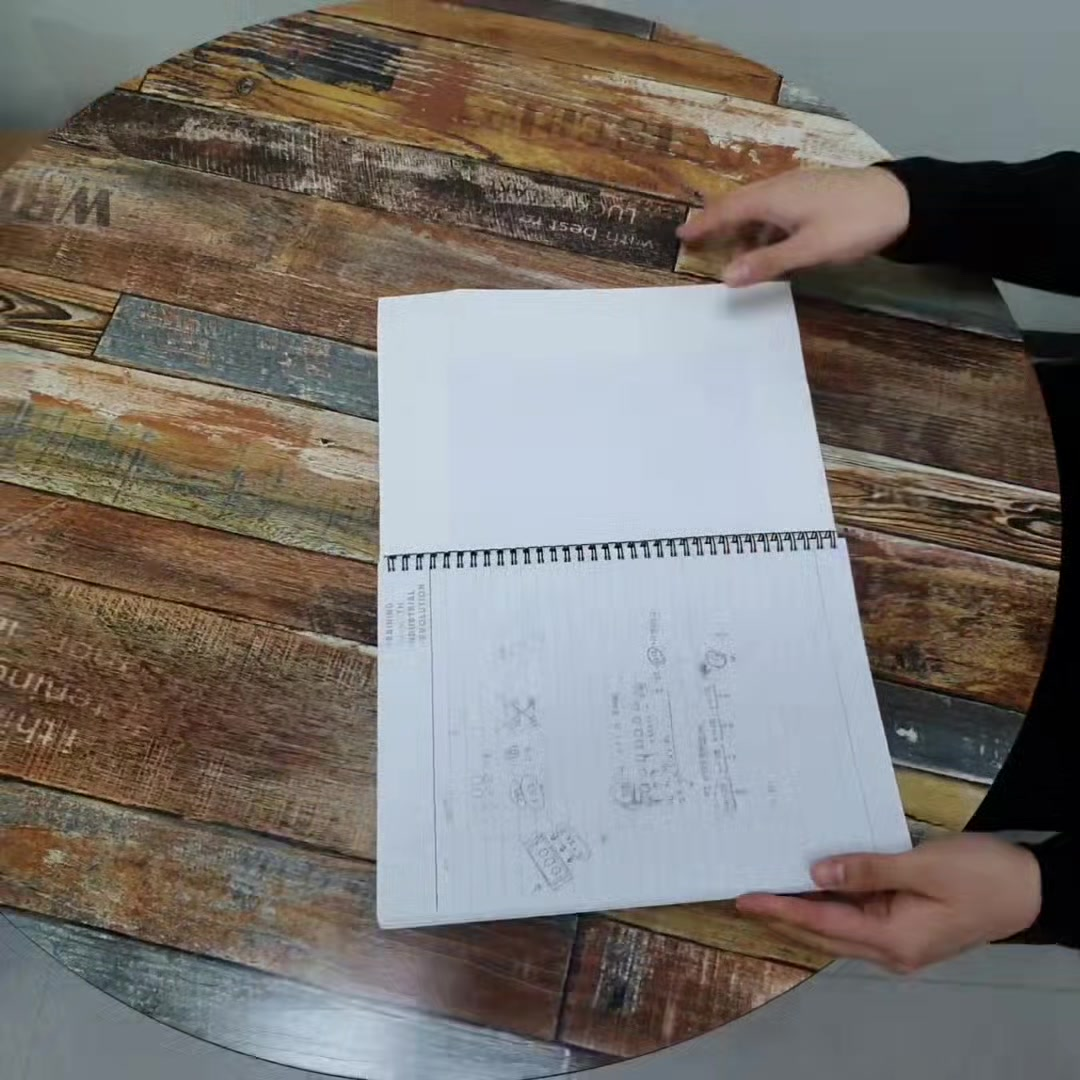book: (383, 297, 886, 910)
